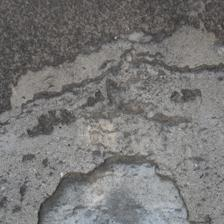Crack: (7, 41, 119, 151), (53, 29, 123, 96)
